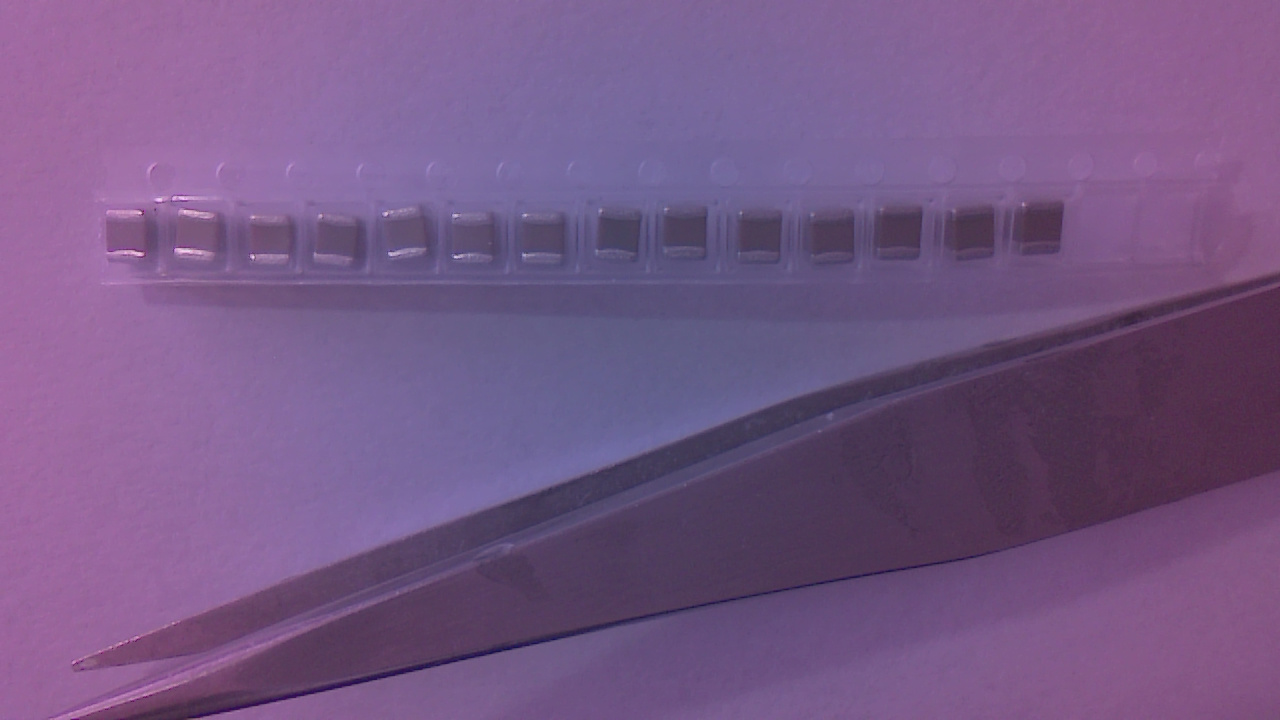Condensator: (945, 205, 998, 266), (808, 210, 859, 272), (735, 211, 786, 271), (253, 213, 303, 273), (665, 207, 714, 268), (1019, 203, 1069, 262), (316, 216, 365, 274), (386, 206, 431, 269), (879, 207, 927, 266), (455, 214, 503, 273), (178, 210, 226, 269), (524, 212, 571, 272), (600, 208, 647, 267), (110, 208, 154, 270)
